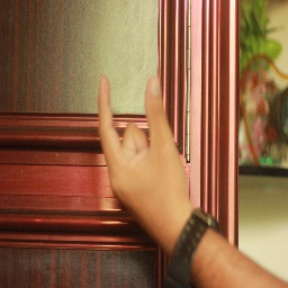U: (90, 70, 188, 210)
